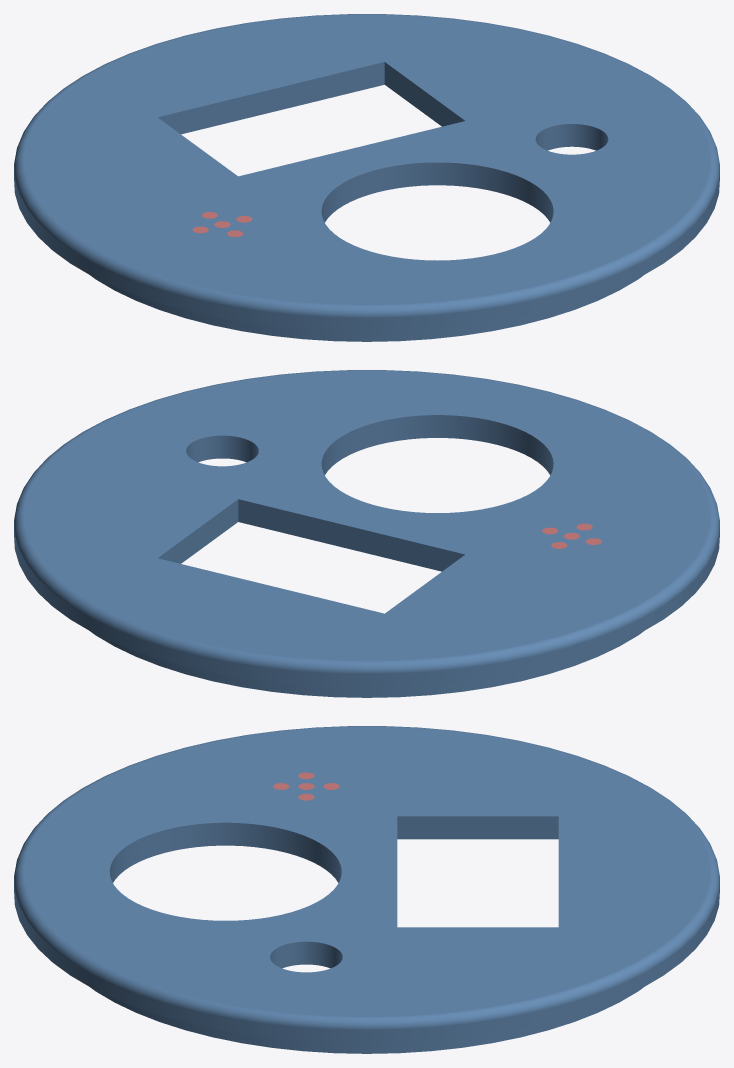
Rendered from step_04.glb.
3 renders of one model, top to bottom at view 1: azimuth 30°, elevation 25°; view 2: azimuth 150°, elevation 25°; view 3: azimuth 270°, elevation 25°, orthographic.
Visible parts, largest first — view 1: part__pod cap; view 2: part__pod cap; view 3: part__pod cap.
Boxes of the visible parts, x1,y1,x2,y2 form: part__pod cap: [14, 14, 719, 341]; part__pod cap: [14, 370, 719, 697]; part__pod cap: [14, 726, 719, 1053].
Size of the model in its own units: 69.96 by 5 by 69.98.
